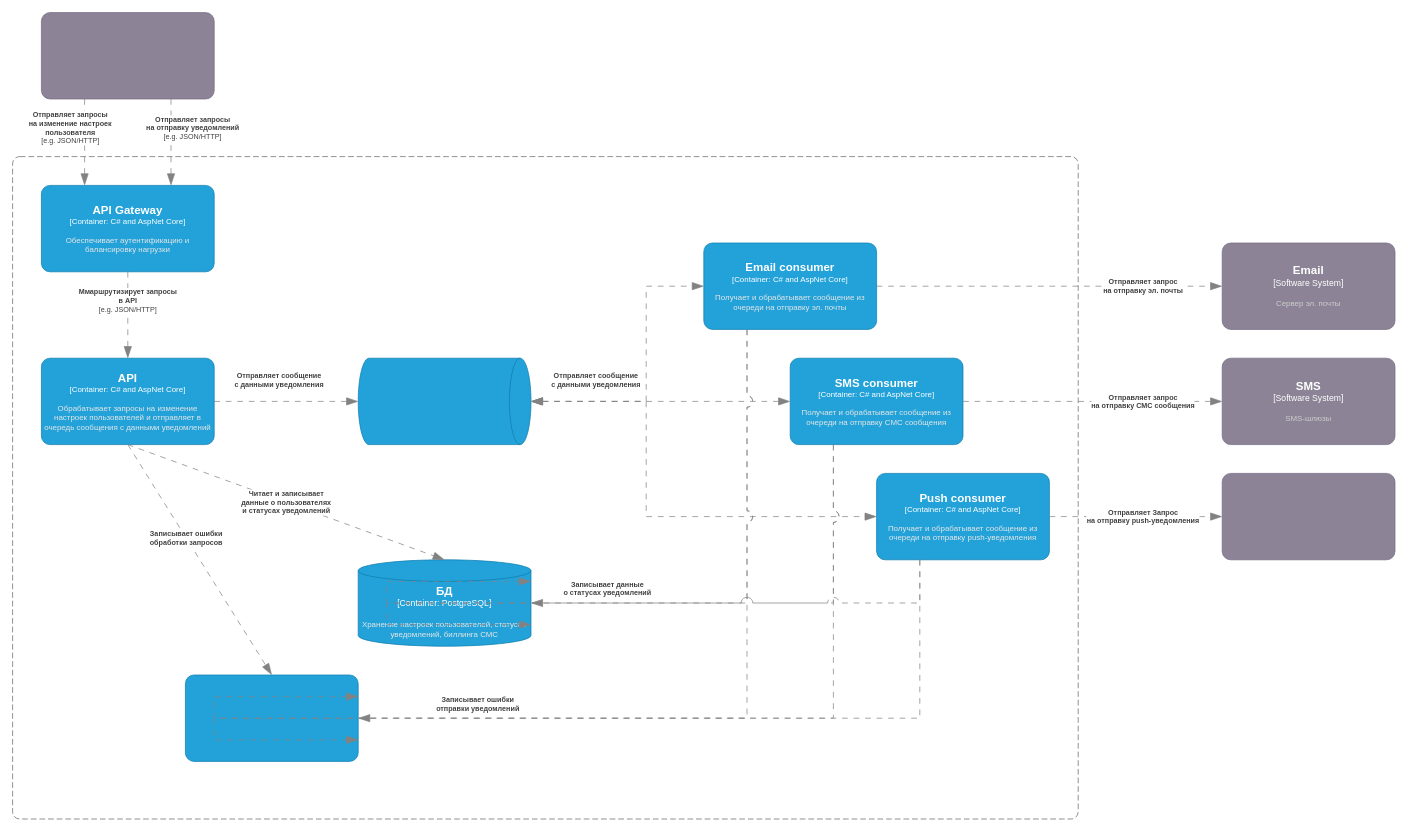
This 1408x832 diagram has some shape labels left out. The shapes that lost their labels are listed below. From the top down, each one's centre as x and y in pixels, then its label:
point (127, 55): Подсистемы [Software System] Клиенты сервиса отправки уведомлений
point (444, 401): Брокер сообщений [Container: RabbitMQ] Очередь с уведомлениями к отправке
point (1308, 516): Push [Software System] Push
point (271, 717): Логи [Container: Loki + Grafana] Система хранения логов
